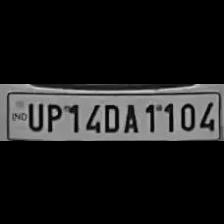0: (176, 99, 196, 131)
1: (140, 100, 160, 132), (158, 100, 176, 132), (64, 99, 80, 133)
4: (196, 97, 216, 131), (81, 100, 101, 132)
A: (122, 100, 140, 132)
D: (101, 100, 121, 132)
P: (43, 100, 63, 132)
U: (24, 99, 42, 131)
